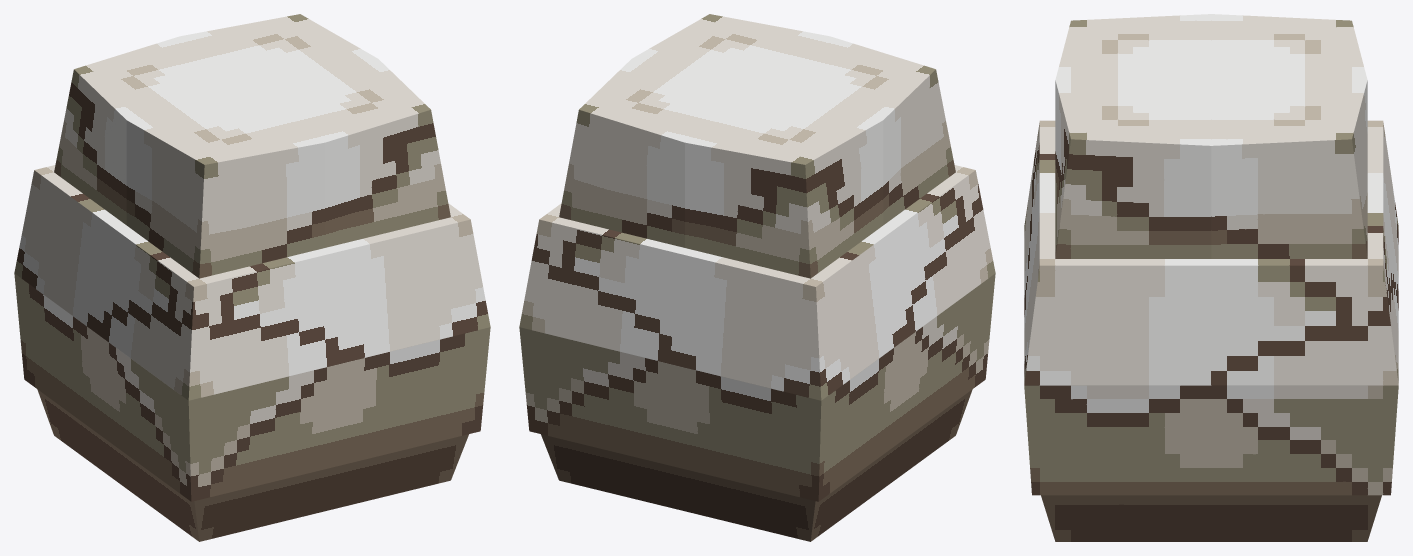
The model's file is bone-egg.gltf.
3 views of the same model, side by side, from view 1: azimuth 30°, elevation 25°; view 2: azimuth 150°, elevation 25°; view 3: azimuth 270°, elevation 25° (orthographic). The views are drawn at different scales.
Parts seen in each view (by area): view 1: cube (×3); view 2: cube (×3); view 3: cube (×3).
Boxes of the visible parts, x1,y1,x2,y2 form: cube (×3): (14,14,490,541); cube (×3): (519,14,995,541); cube (×3): (1024,14,1398,541).
Size of the model in its own units: 0.75 by 0.875 by 0.75.
Materials: 1 (1 with a texture image).
